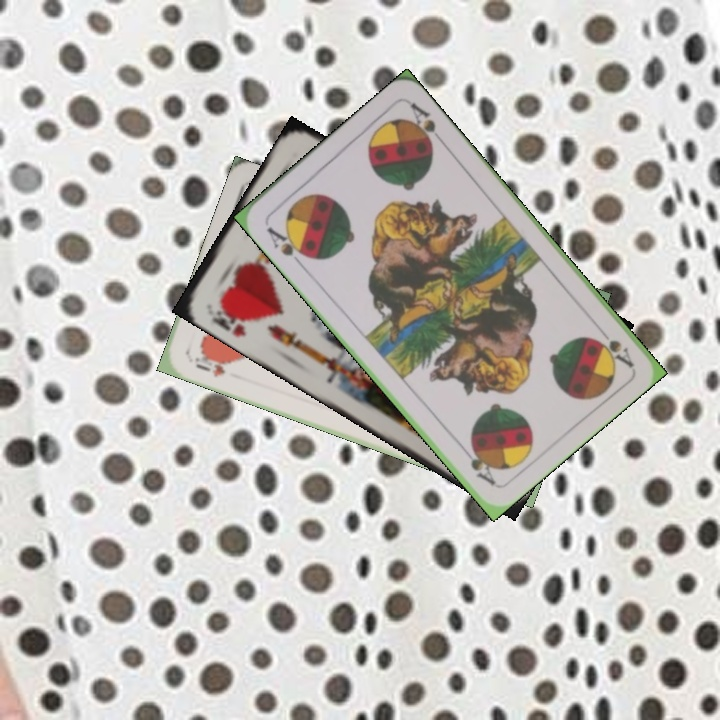HK: (208, 298, 254, 340)
HO: (190, 349, 233, 380)
SA: (262, 222, 313, 269), (591, 321, 636, 370)
